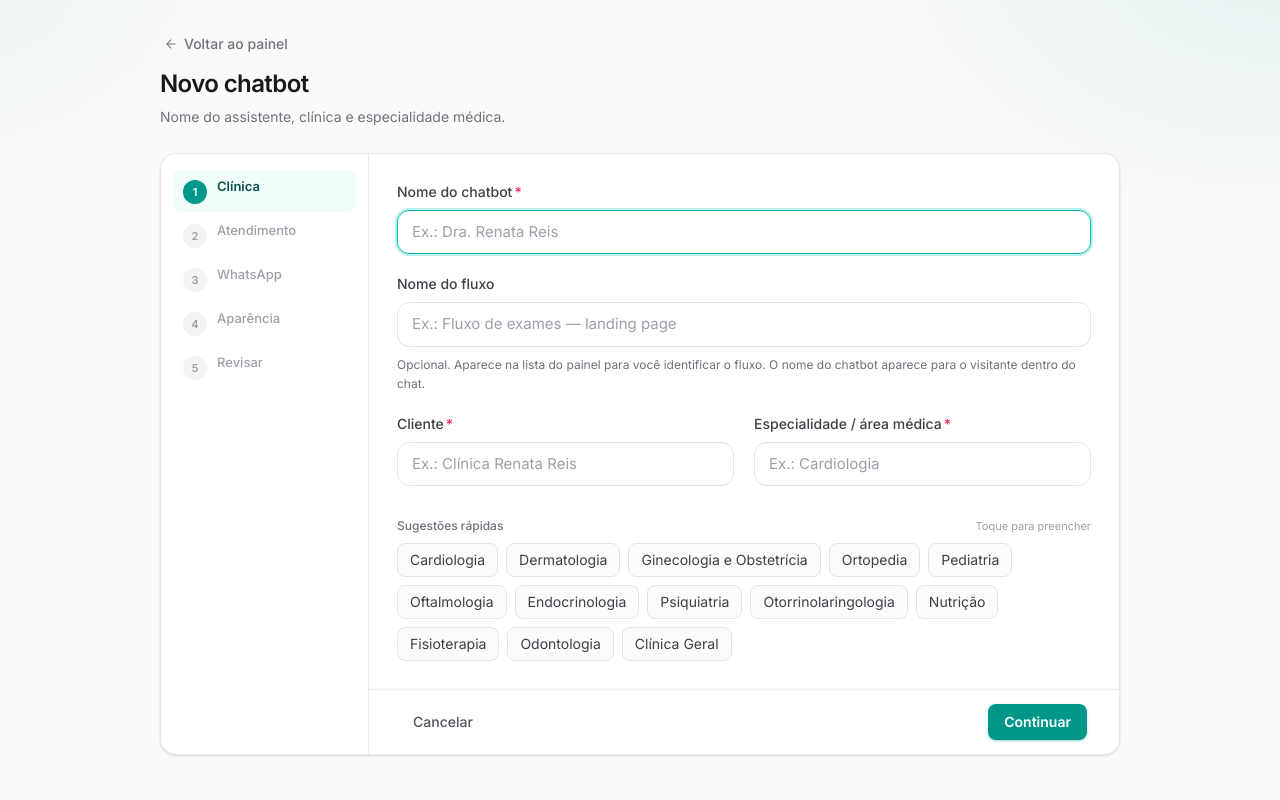
Test: ChatbotForm (wizard) › blocks step 1 until required fields are filled, with per-field errors
Click the button "Continuar" at (1038, 722), box [988, 704, 1087, 740]
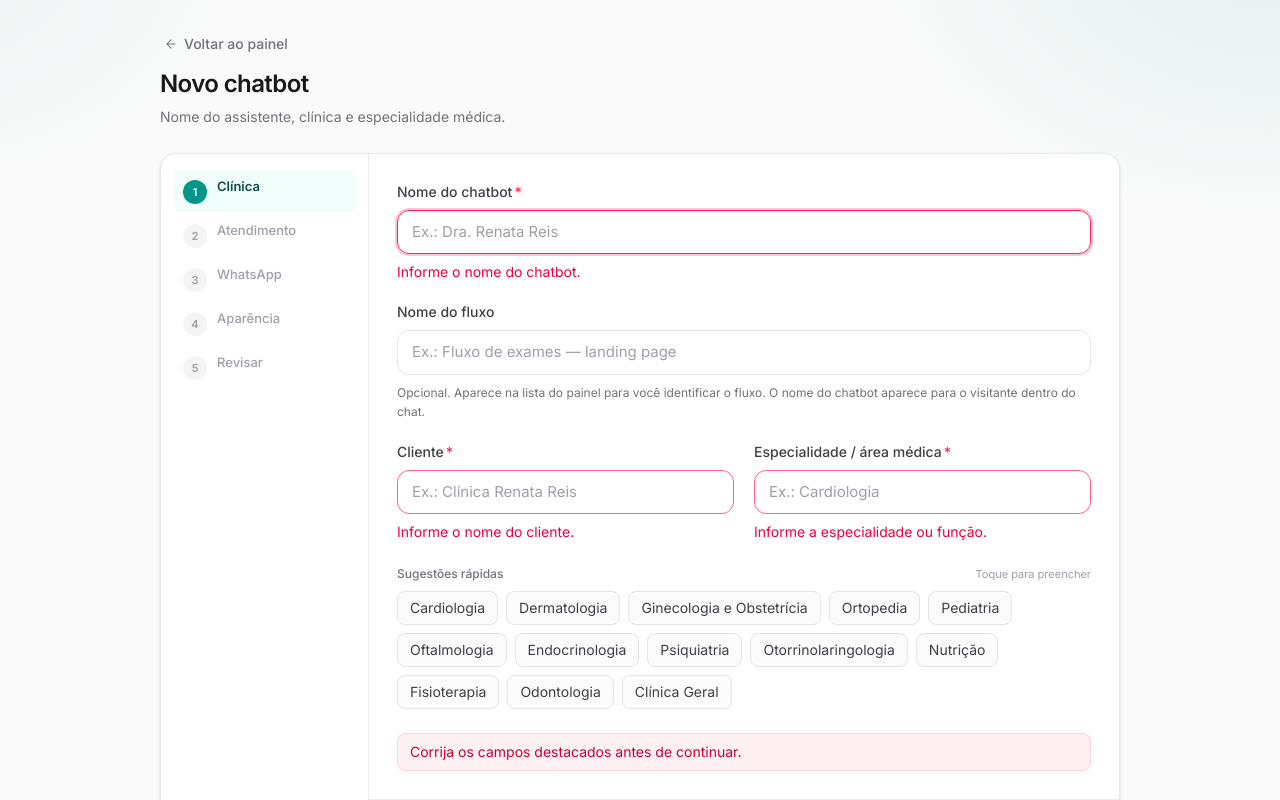
Expected: the field labelled "Nome do chatbot*" is shown, [397, 210, 1091, 254]
Now the text "Informe o nome do chatbot." is shown, box [397, 263, 581, 280]
Now the text "Informe o nome do cliente." is shown, box [397, 523, 574, 540]
